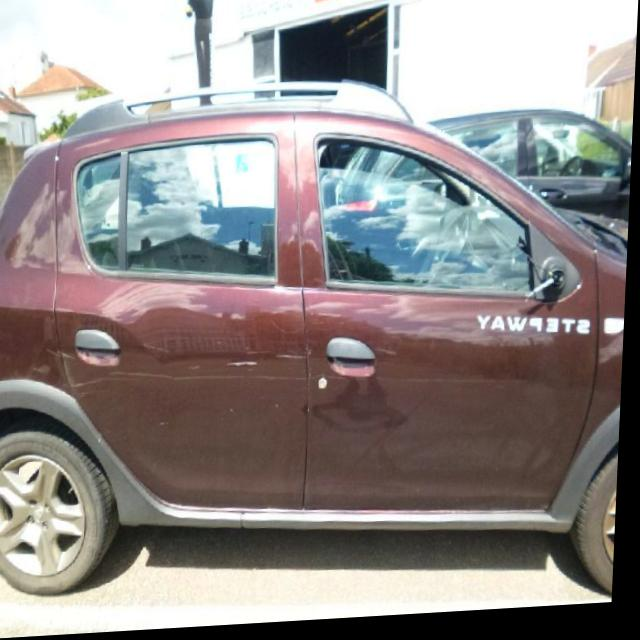porte-avant: (282, 100, 606, 526)
